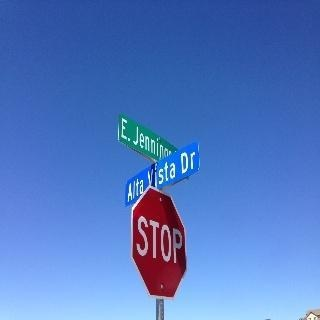sign_stop: (126, 184, 184, 298)
